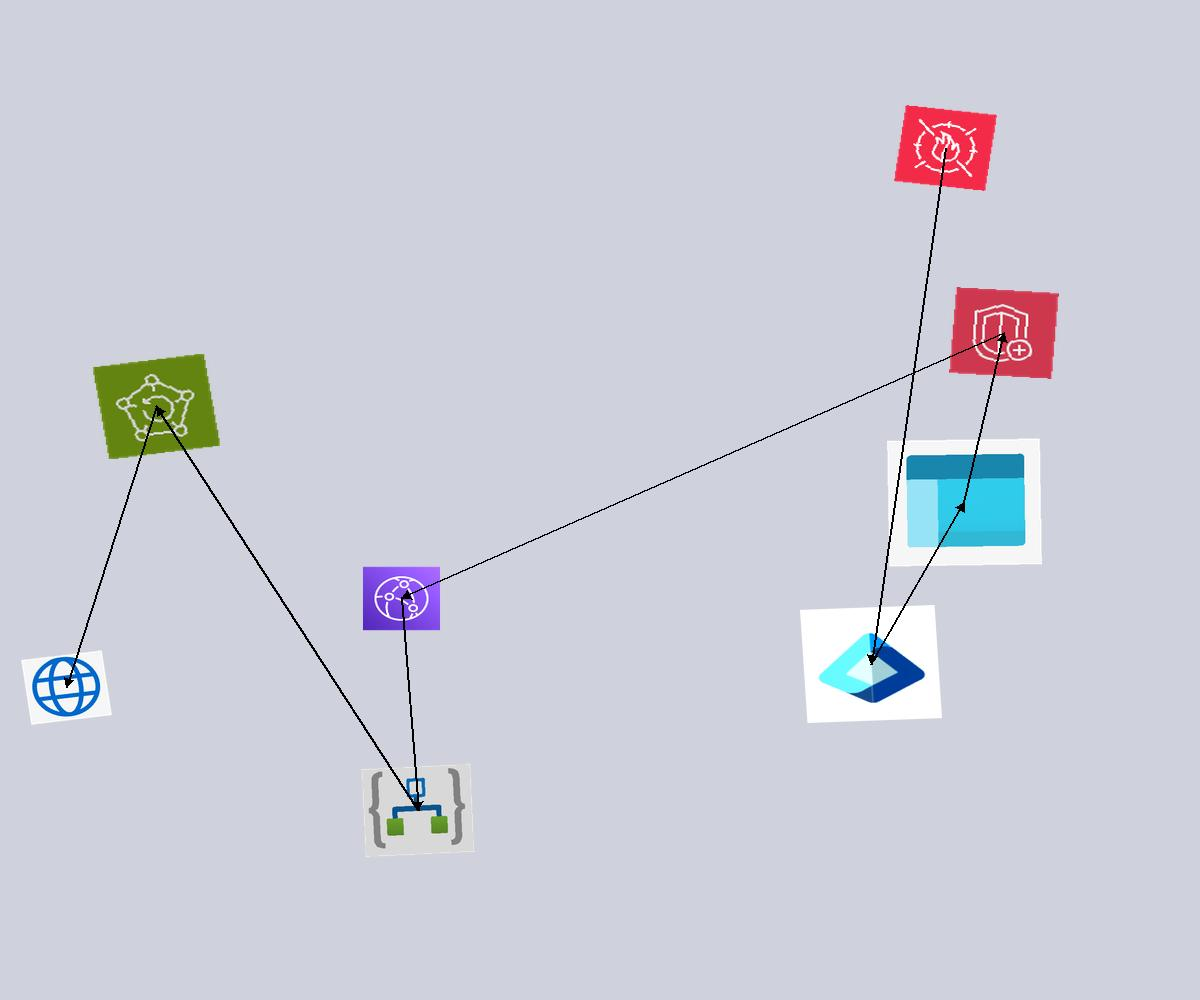AWS-Backup: (92, 353, 221, 460)
AWS-CloudFront: (362, 566, 441, 631)
AWS-Shield: (949, 287, 1059, 379)
AWS-WAF: (894, 105, 997, 191)
Azure_http: (21, 650, 112, 725)
Azure_integration-204-Logic-Apps: (361, 763, 475, 858)
Azure_management-portal: (887, 438, 1042, 567)
Azure_microsoft_entra: (800, 605, 942, 723)
